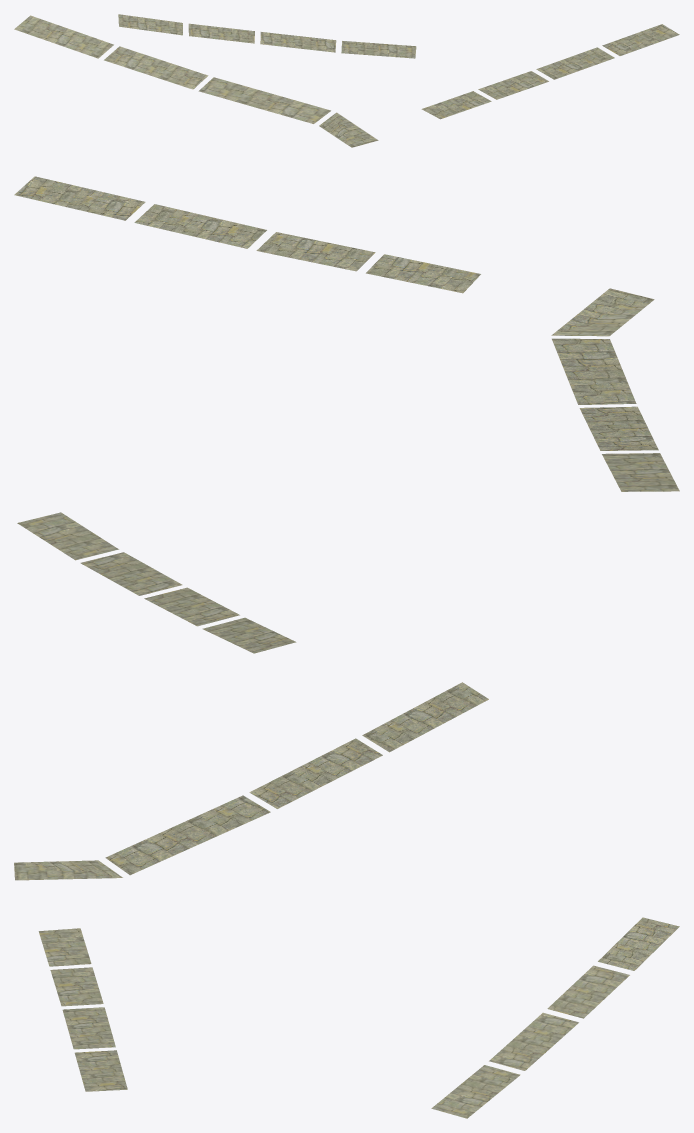
Rendered from SM_Chateaux_01_wIREMESH_00.fbx.
The picture shows the model from 3 angles, top to bottom: view 1: azimuth 30°, elevation 25°; view 2: azimuth 150°, elevation 25°; view 3: azimuth 270°, elevation 25°; orthographic projection. The views are drawn at different scales.
Parts seen in each view (by area): view 1: SM_Chateaux_01_wIREMESH_00; view 2: SM_Chateaux_01_wIREMESH_00; view 3: SM_Chateaux_01_wIREMESH_00.
Part boxes in pixels (x1,y1,x2,y2): SM_Chateaux_01_wIREMESH_00: (14,14,679,147); SM_Chateaux_01_wIREMESH_00: (14,176,679,653); SM_Chateaux_01_wIREMESH_00: (14,682,679,1118).
Bounding box in the file's own units: 3604 × 761 × 2818.
